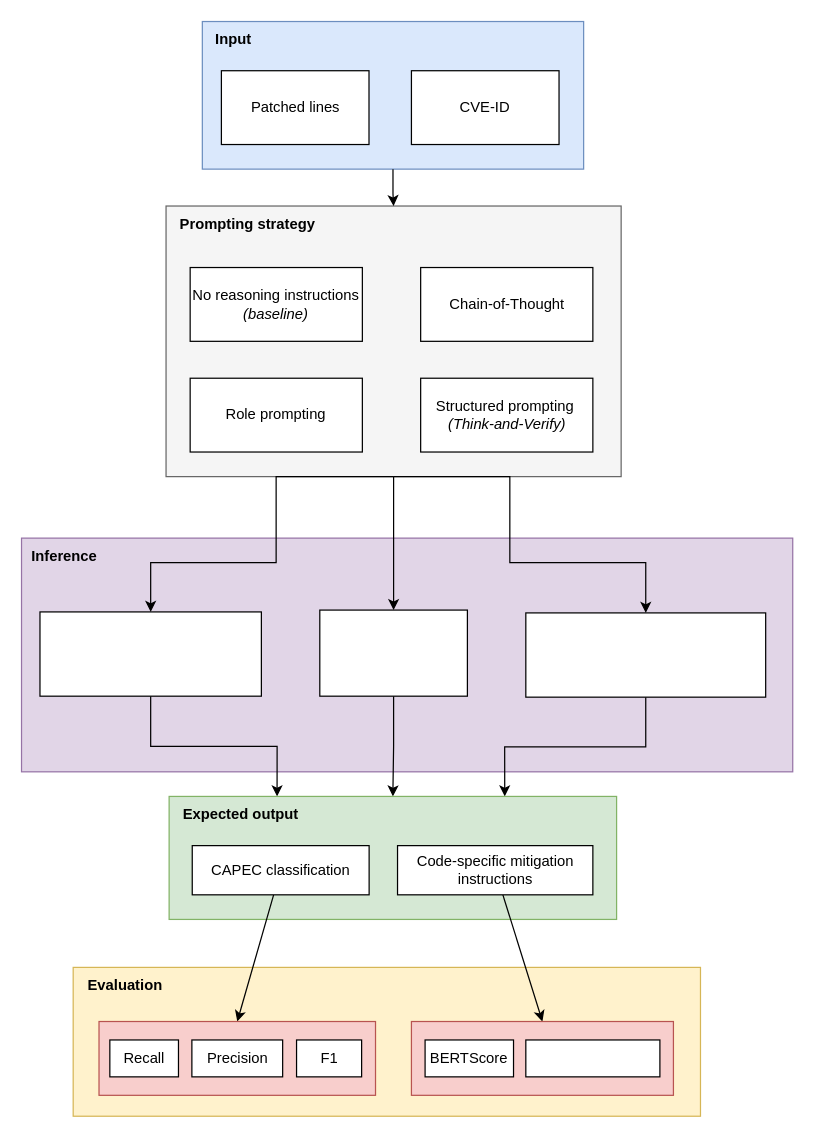
The diagram is 814 pixels wide and 1138 high, and some of its shapes have lost their labels. Here are the shapes that lost their labels. From the top down, the centre of each, then its label:
At point 150,653: "Qwen-2.5-Coder-7B-Instruct (Code-specialized)".
At point 393,652: "Qwen-3-8B (General-purpose)".
At point 645,654: "DeepSeek-R1-Distill-Qwen-7B (Reasoning)".
At point 592,1058: "Cosine similarity".
